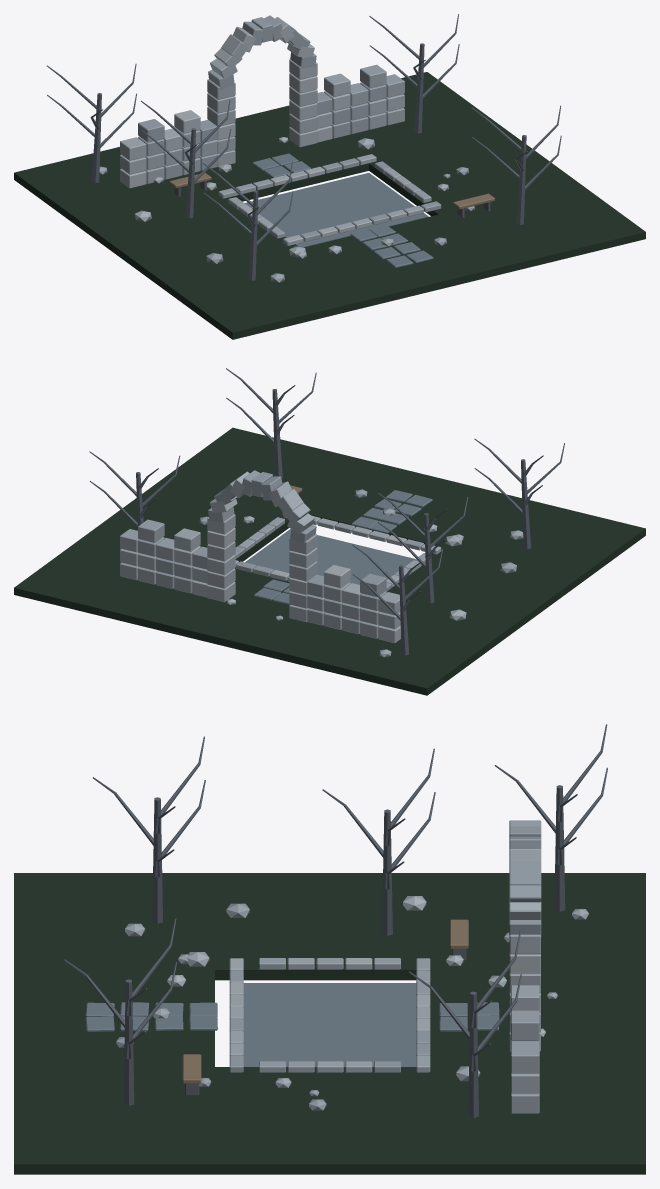
The model's file is courtyard.glb.
3 views of the same model, one above another, from view 1: azimuth 30°, elevation 25°; view 2: azimuth 150°, elevation 25°; view 3: azimuth 270°, elevation 25° (orthographic). The views are drawn at different scales.
Visible parts, largest first — view 1: Ground, Architecture, Trees, Props; view 2: Ground, Architecture, Trees, Props; view 3: Ground, Architecture, Trees, Props.
Part boxes in pixels (bbox=[...]): Ground: bbox=[14, 72, 645, 339]; Architecture: bbox=[120, 15, 441, 245]; Trees: bbox=[47, 14, 561, 280]; Props: bbox=[99, 137, 494, 282]; Ground: bbox=[14, 427, 645, 695]; Architecture: bbox=[120, 470, 441, 643]; Trees: bbox=[89, 368, 564, 655]; Props: bbox=[199, 485, 523, 657]; Ground: bbox=[14, 873, 645, 1174]; Architecture: bbox=[229, 820, 541, 1113]; Trees: bbox=[64, 724, 607, 1117]; Props: bbox=[85, 896, 588, 1110].
Bounding box in the file's own units: 24 × 8.01 × 22.
